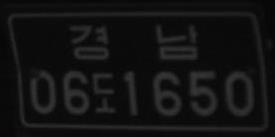0: (224, 69, 256, 118), (29, 69, 57, 116)
1: (118, 70, 144, 116)
5: (188, 69, 218, 118)
6: (152, 70, 182, 117), (62, 69, 90, 115)
경남_D: (68, 22, 200, 62)
도: (92, 72, 117, 114)
